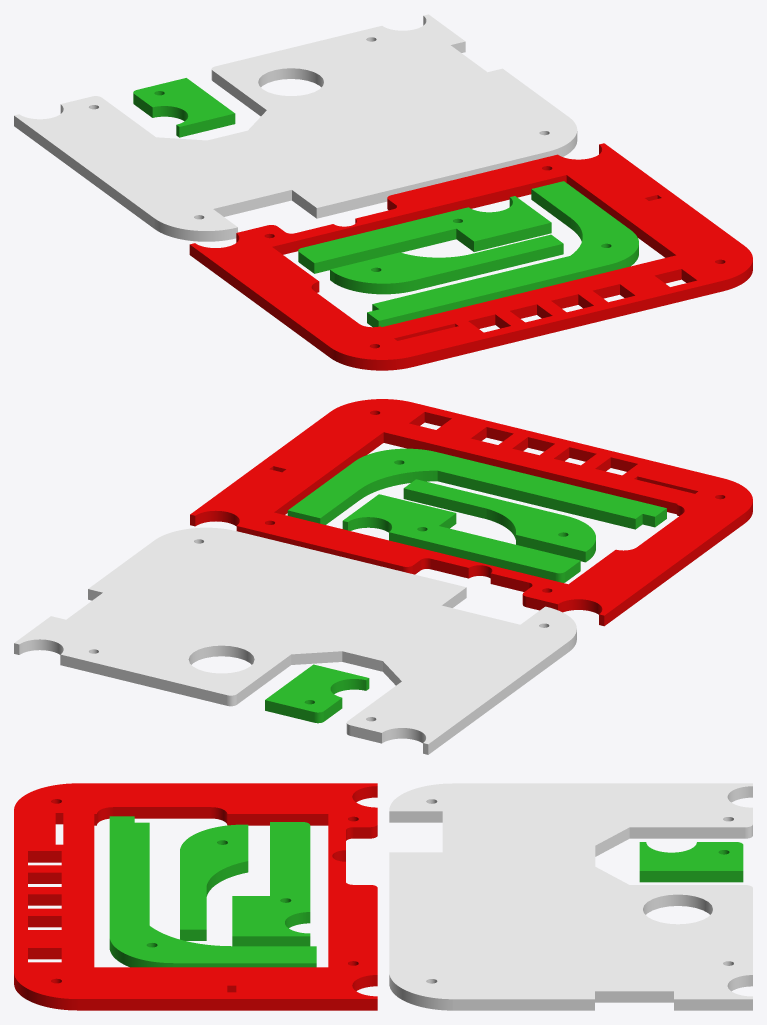
The model's file is BADGEr_case_compact_V2.dae.
3 renders of one model, top to bottom at view 1: azimuth 30°, elevation 25°; view 2: azimuth 150°, elevation 25°; view 3: azimuth 270°, elevation 25°, orthographic. The views are drawn at different scales.
Parts seen in each view (by area): view 1: SketchUp (×8); view 2: SketchUp (×8); view 3: SketchUp (×13).
Boxes of the visible parts, x1=… form: SketchUp (×8): x1=14, y1=14, x2=752, y2=370; SketchUp (×8): x1=14, y1=399, x2=752, y2=754; SketchUp (×13): x1=14, y1=783, x2=752, y2=1010.
Bounding box in the file's own units: 4 × 5.79 × 0.0984.
